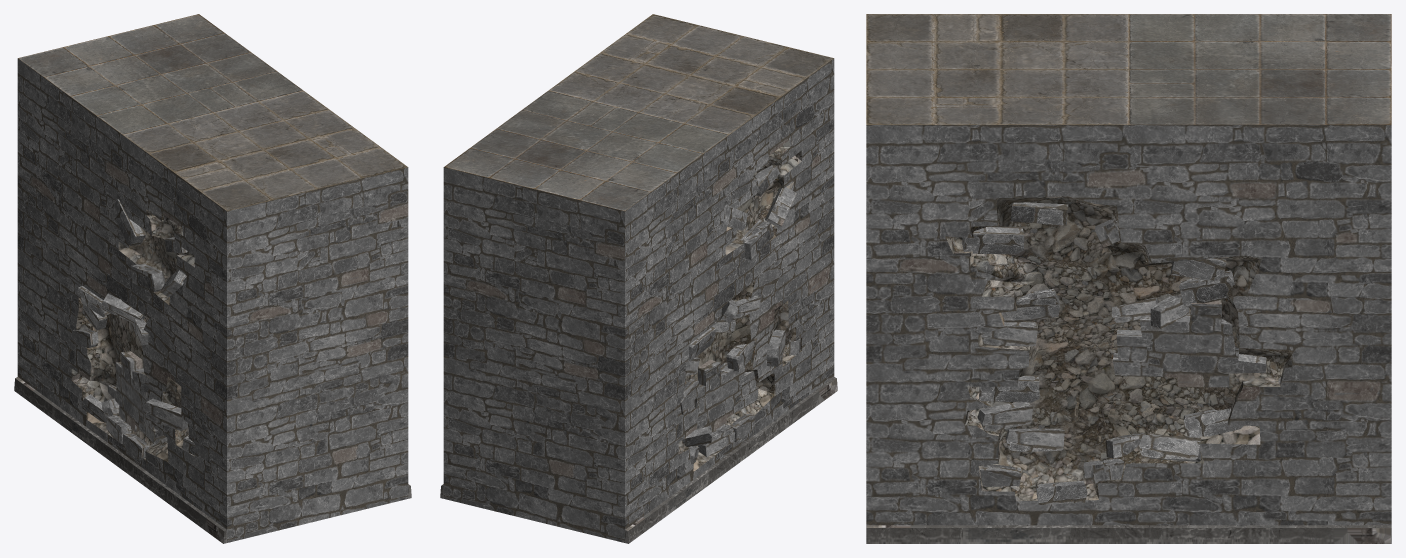
Rendered from MC_Castle_Wall_A_8m_Broken_02.fbx.
3 views of the same model, side by side, from view 1: azimuth 30°, elevation 25°; view 2: azimuth 150°, elevation 25°; view 3: azimuth 270°, elevation 25° (orthographic). The views are drawn at different scales.
Parts seen in each view (by area): view 1: MC_Castle_Wall_A_8m_Broken_02_LOD0; view 2: MC_Castle_Wall_A_8m_Broken_02_LOD0; view 3: MC_Castle_Wall_A_8m_Broken_02_LOD0.
Part boxes in pixels (box(x1,y1,x2,y2)): MC_Castle_Wall_A_8m_Broken_02_LOD0: box(14, 14, 411, 543); MC_Castle_Wall_A_8m_Broken_02_LOD0: box(440, 14, 837, 543); MC_Castle_Wall_A_8m_Broken_02_LOD0: box(866, 14, 1391, 543).
Size of what is drawn, in the model's own units: 444 by 700 by 800.
